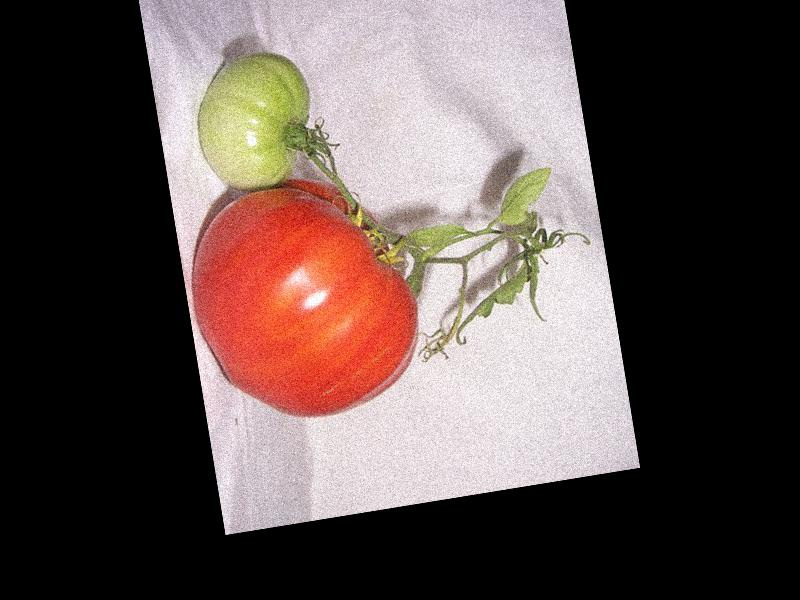Tomato: (178, 162, 432, 433)
